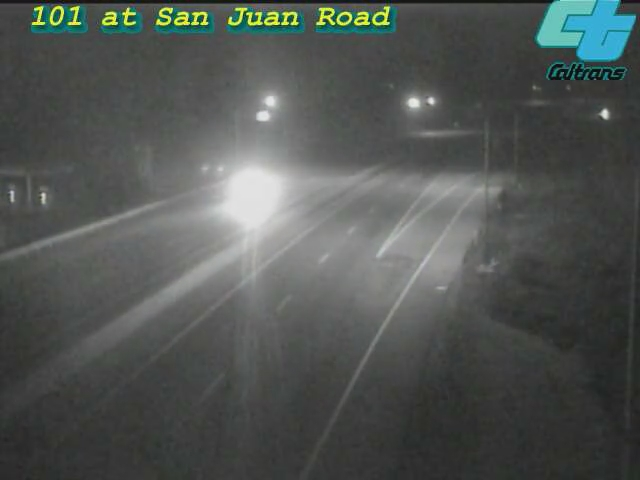vehicle: (204, 154, 284, 234), (580, 89, 630, 139)
